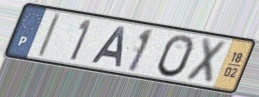1: (127, 27, 156, 75), (68, 18, 94, 63)
A: (89, 25, 127, 69)
I: (35, 12, 63, 60)
O: (155, 34, 196, 80)
X: (182, 35, 231, 87)
